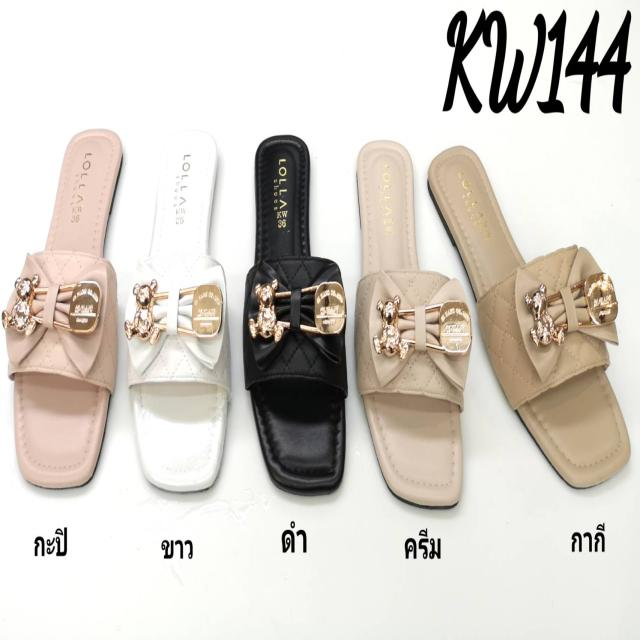black: (248, 136, 346, 485)
cream: (355, 139, 465, 502)
kakee: (431, 138, 631, 486)
kapi: (10, 123, 121, 476)
white: (130, 132, 227, 485)
